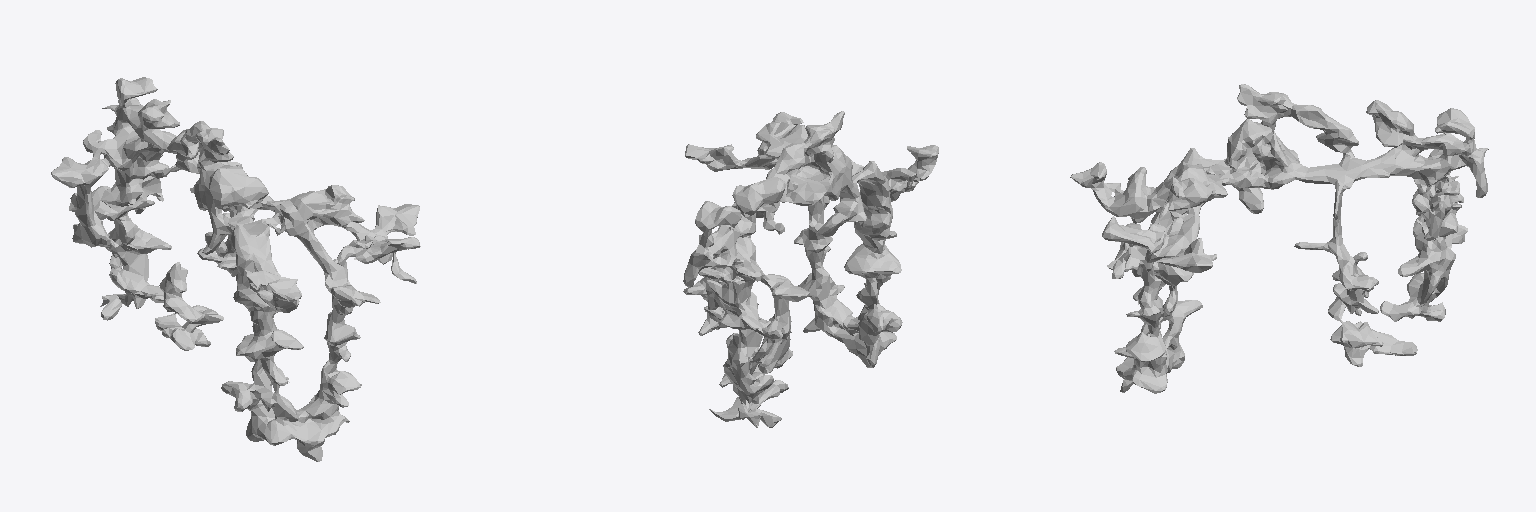
File: 9bd8e5b16103_A_wild_vine_min.obj
3 views of the same model, side by side, from view 1: azimuth 30°, elevation 25°; view 2: azimuth 150°, elevation 25°; view 3: azimuth 270°, elevation 25° (orthographic).
Visible parts, largest first — view 1: mesh; view 2: mesh; view 3: mesh.
Boxes of the visible parts, box(x1,y1,x2,y2) form: mesh: box(51, 77, 420, 461); mesh: box(683, 111, 938, 427); mesh: box(1070, 84, 1488, 393).
Bounding box in the file's own units: 0.6763 × 0.7628 × 0.9996.